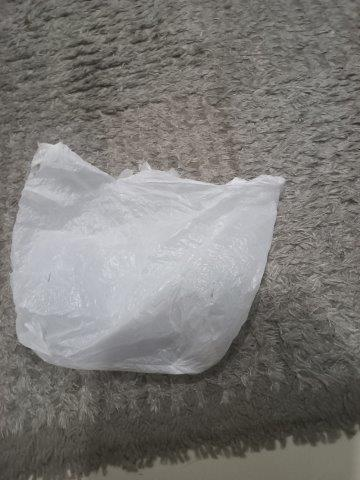plastik: (8, 143, 285, 375)
